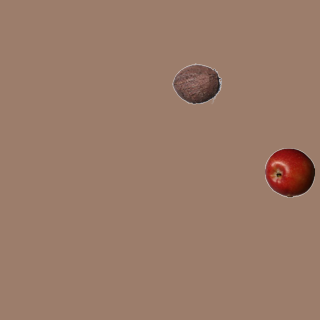Apple Braeburn: (264, 147, 314, 197)
Cocos: (171, 58, 221, 108)
